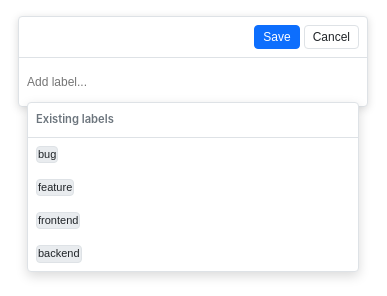
it: LabelEditor › Edit mode (overlay with cellRect) › should filter suggestions based on input
The width and height of the screenshot is (387, 296).
In the field with placeholder "Add label...": (193, 82) [27,75,359,89], type "f"
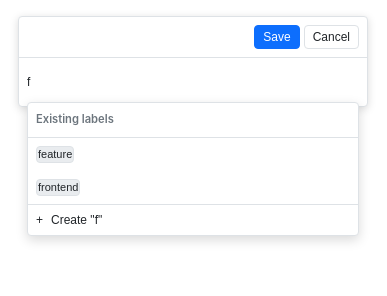
Expected: the text "feature" is shown, [36,146,74,163]
Now the button "bug" is gone
Now the button "backend" is gone
